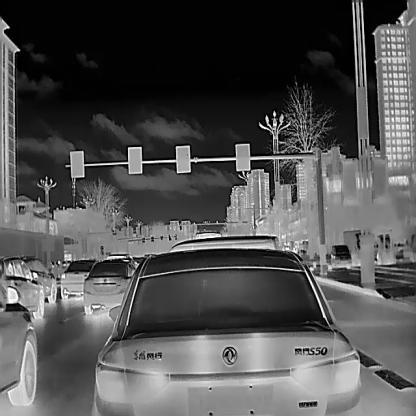car: (90, 248, 361, 415), (0, 281, 38, 404), (83, 259, 135, 314), (0, 254, 44, 317), (19, 255, 56, 302), (61, 259, 98, 299), (330, 245, 351, 268)
